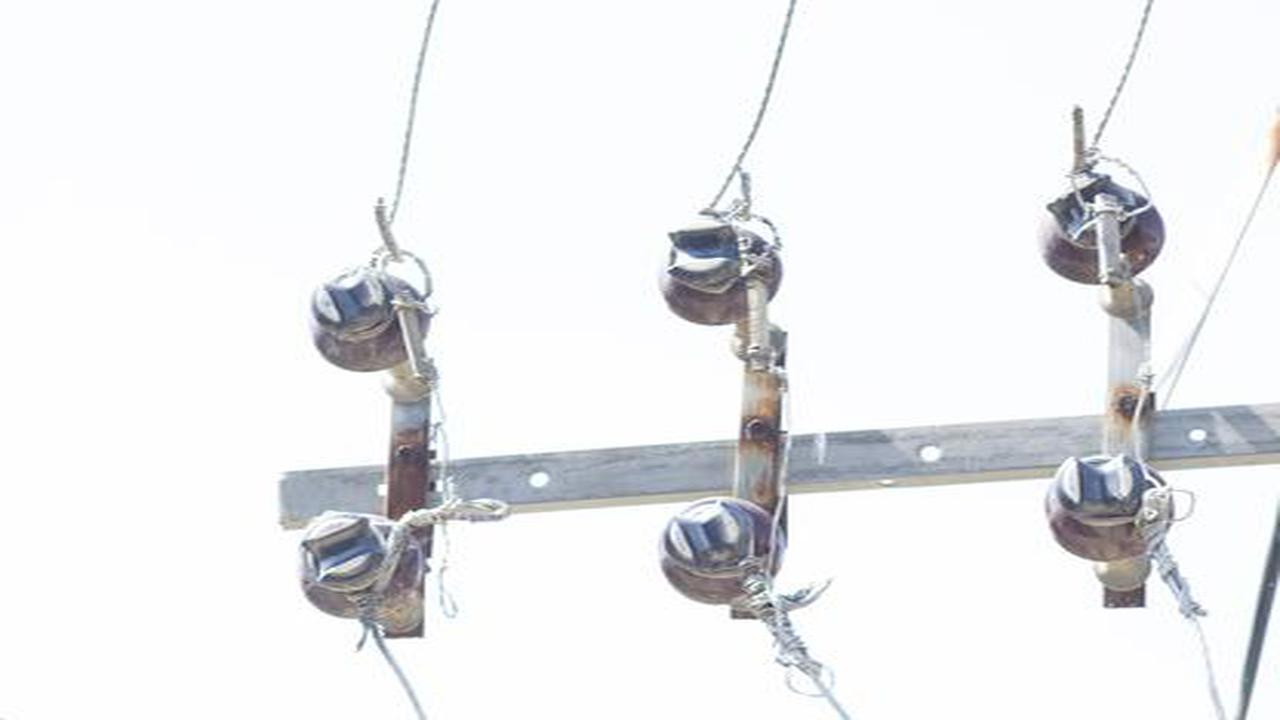insulator_pin: (1027, 161, 1168, 293), (1035, 446, 1180, 574), (649, 487, 791, 611), (652, 207, 789, 327), (291, 506, 428, 624), (306, 263, 435, 377)
